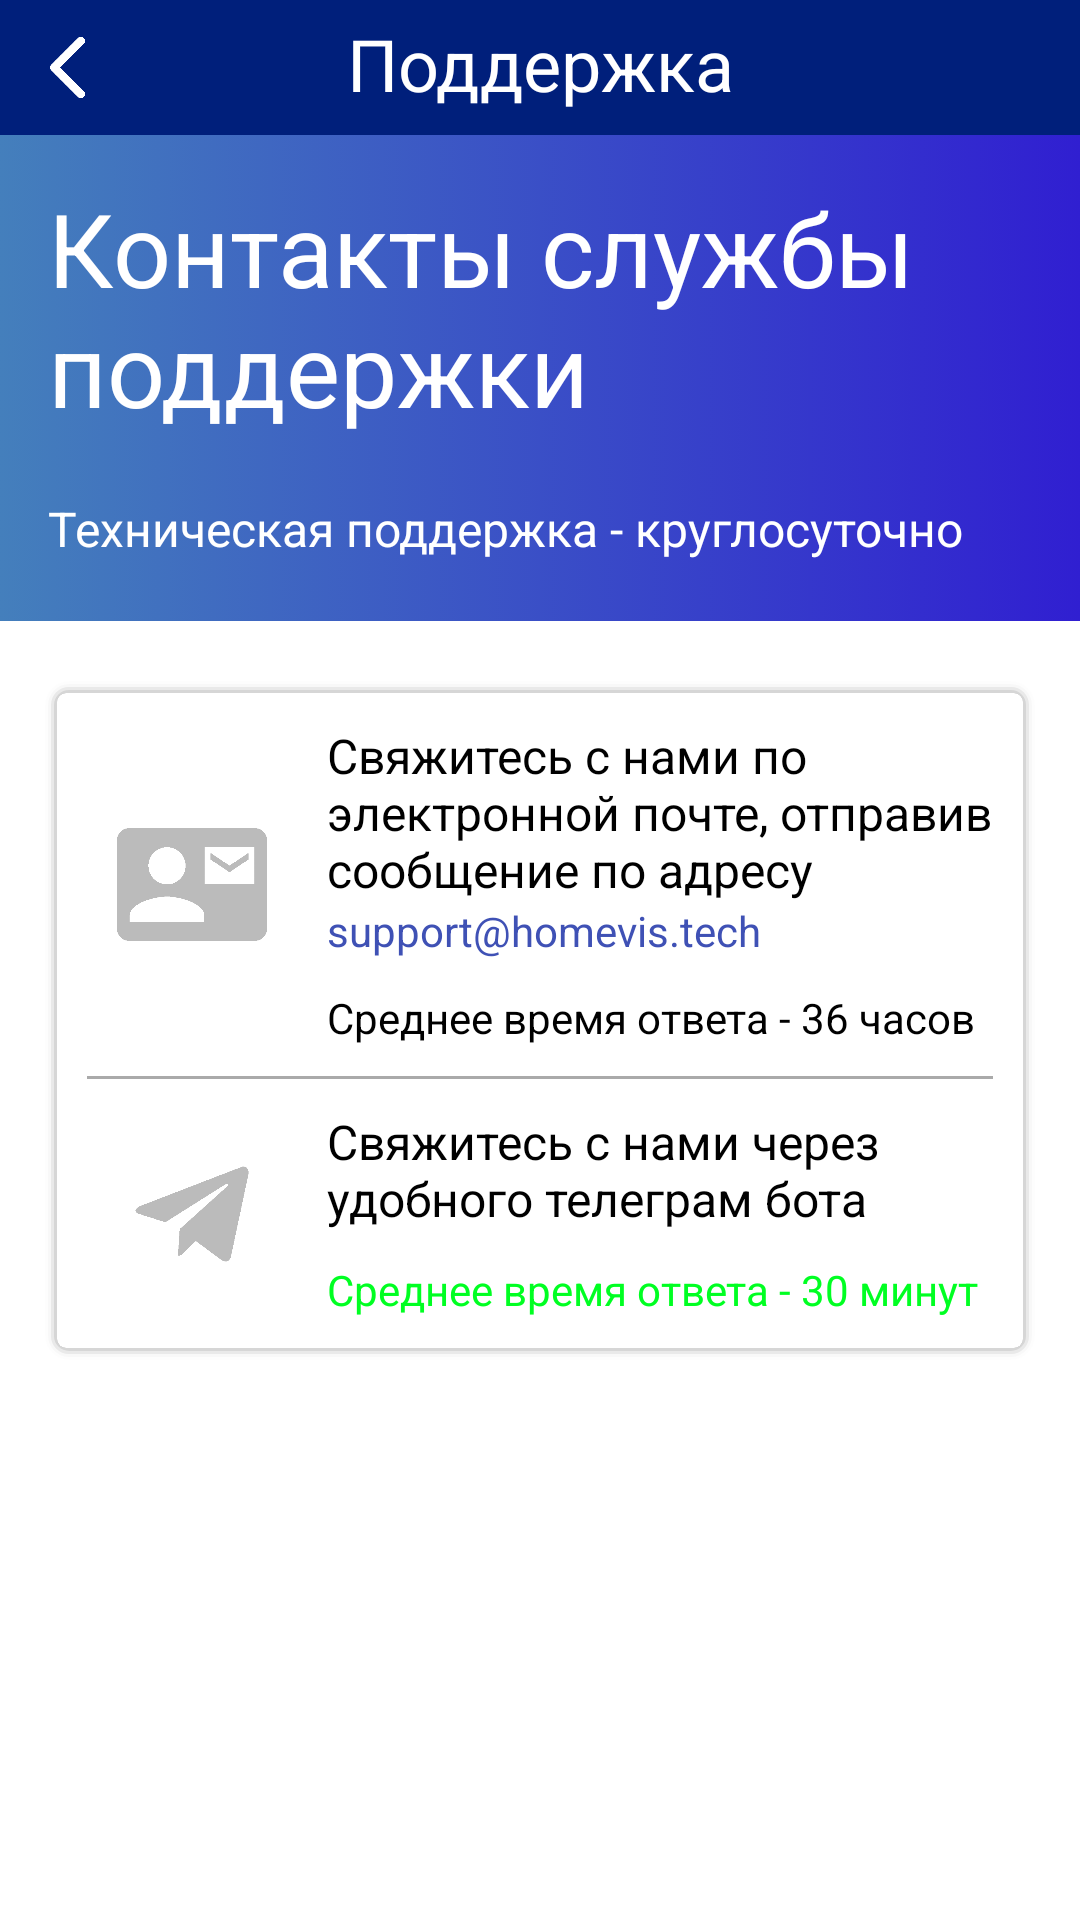

Named icons in this screenshot (1080x1920) and their centers, point (x, y):
card: point (192, 884)
goback: point (67, 67)
